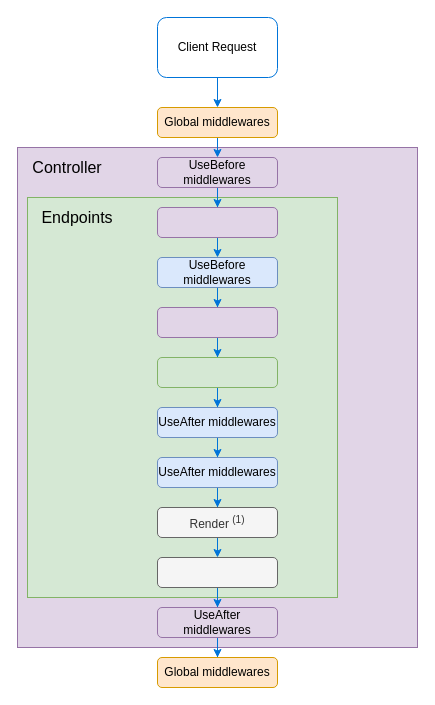
This 435x705 diagram has some shape labels left out. Each missing label, with the centre of its shape:
Endpoint handler: (x=217, y=372)
SendResponse (2): (x=217, y=572)
Use middlewares: (x=217, y=322)
UseBeforeEach middlewares: (x=217, y=222)
